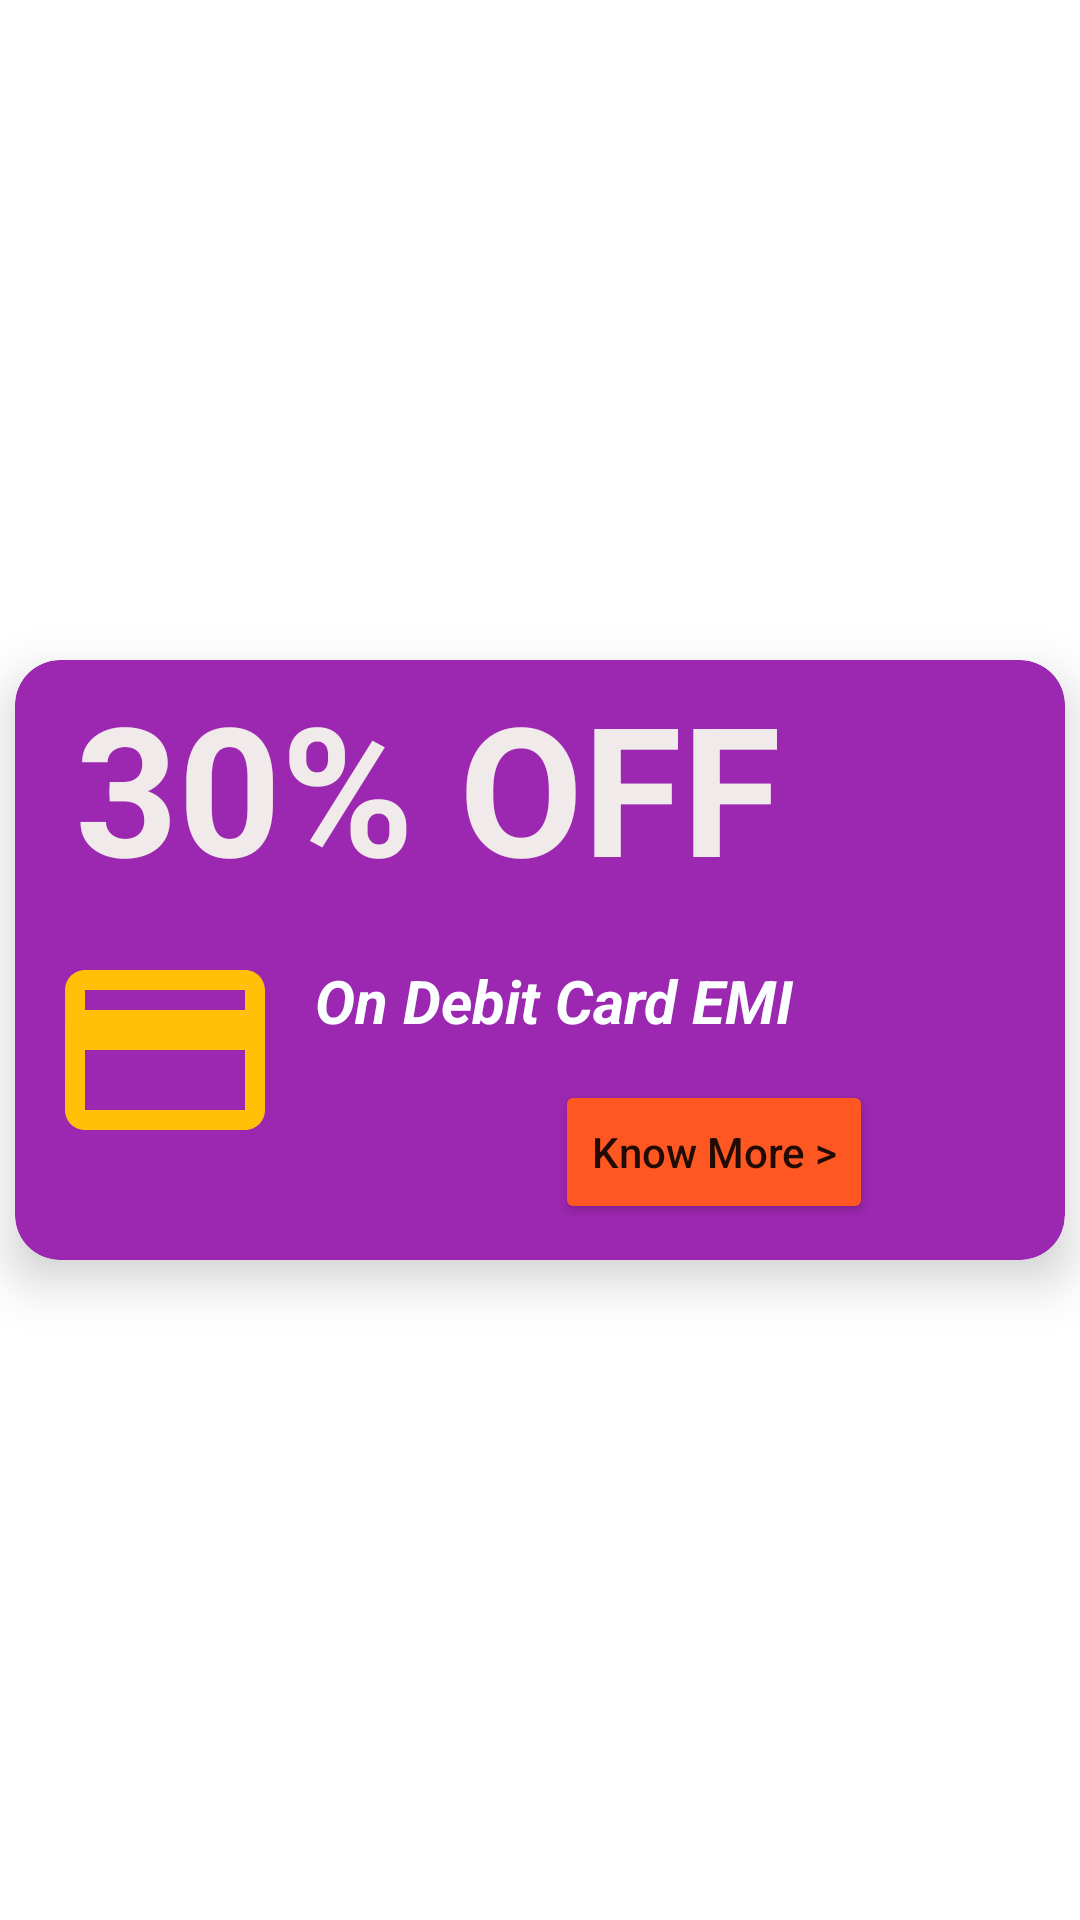

Icon bounding boxes for this 1080 × 1920 phone screenshot, format (x1, y1, x2, y2):
credit card: (65, 970, 265, 1130)
